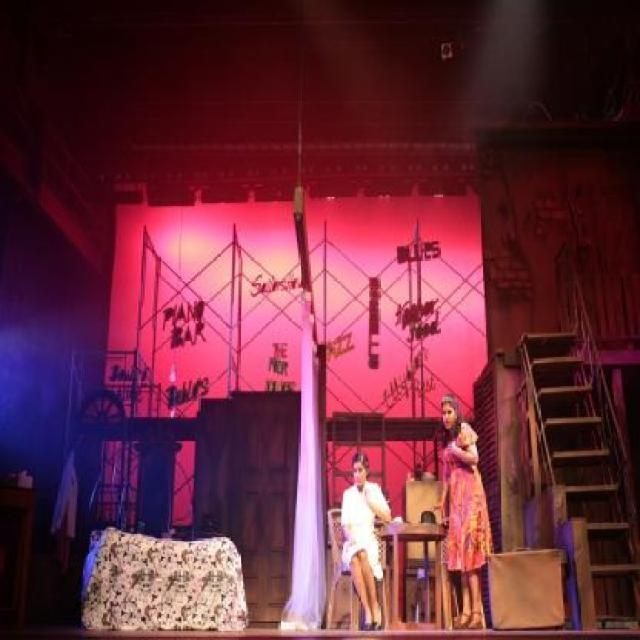stair: (515, 324, 639, 640)
